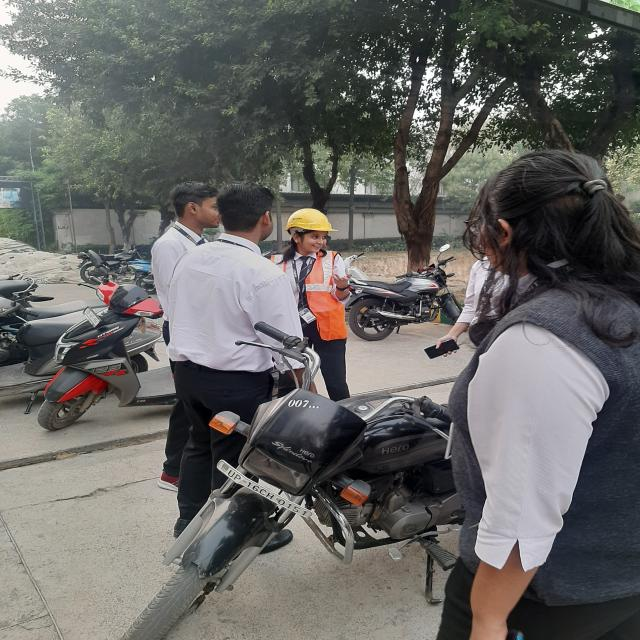safe: (272, 206, 365, 420)
unsafe: (438, 147, 640, 640), (172, 182, 292, 560), (150, 175, 225, 490)
